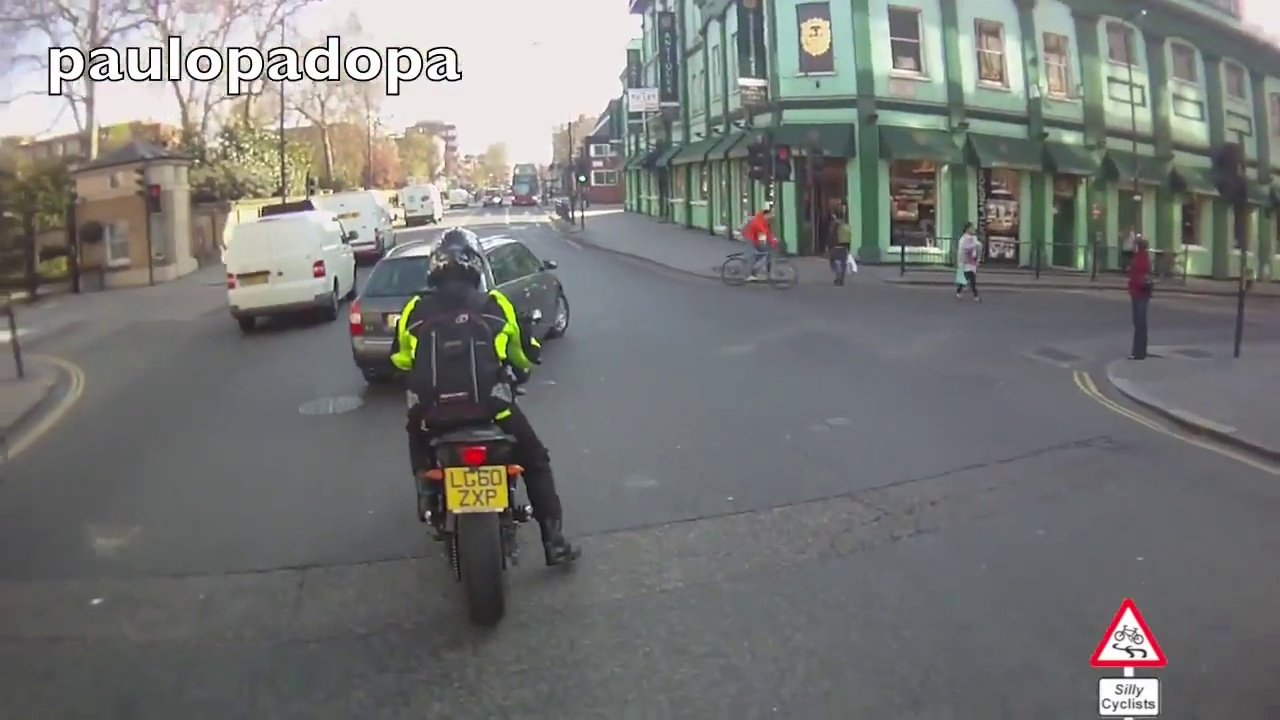cyclist_back: (389, 229, 574, 631)
cyclist_side: (723, 201, 803, 289)
